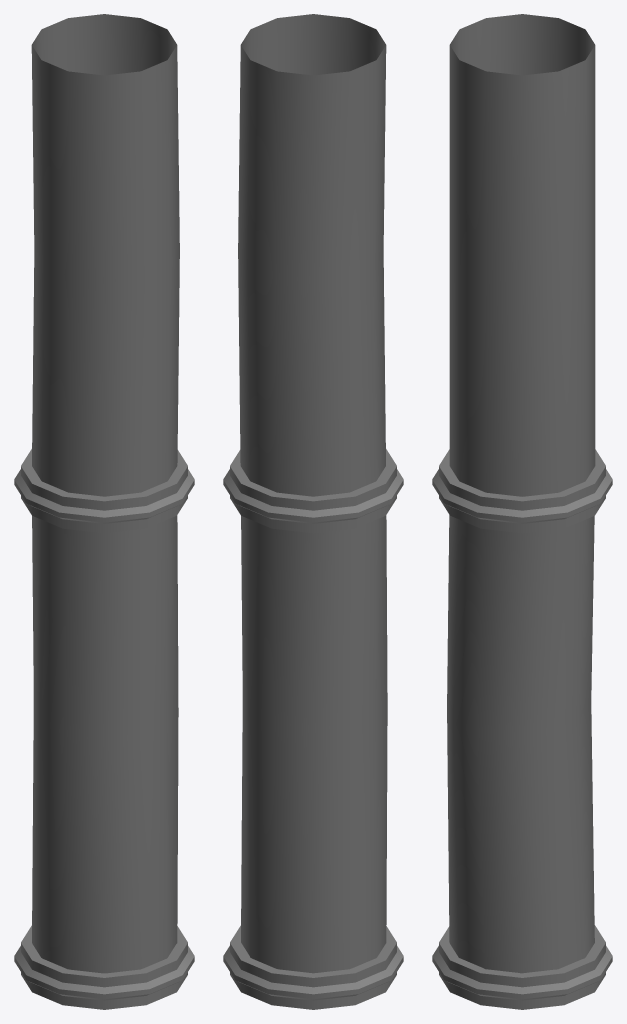
File: tesla_props_pipes_01_med.dae
3 views of the same model, side by side, from view 1: azimuth 30°, elevation 25°; view 2: azimuth 150°, elevation 25°; view 3: azimuth 270°, elevation 25° (orthographic).
Visible parts, largest first — view 1: tesla_props_pipes_01_med; view 2: tesla_props_pipes_01_med; view 3: tesla_props_pipes_01_med.
Part boxes in pixels (x1=…): tesla_props_pipes_01_med: x1=14, y1=14, x2=194, y2=1009; tesla_props_pipes_01_med: x1=223, y1=14, x2=403, y2=1009; tesla_props_pipes_01_med: x1=432, y1=14, x2=612, y2=1009.
Size of what is drawn, in the model's own units: 1.24 by 7.05 by 1.24.
